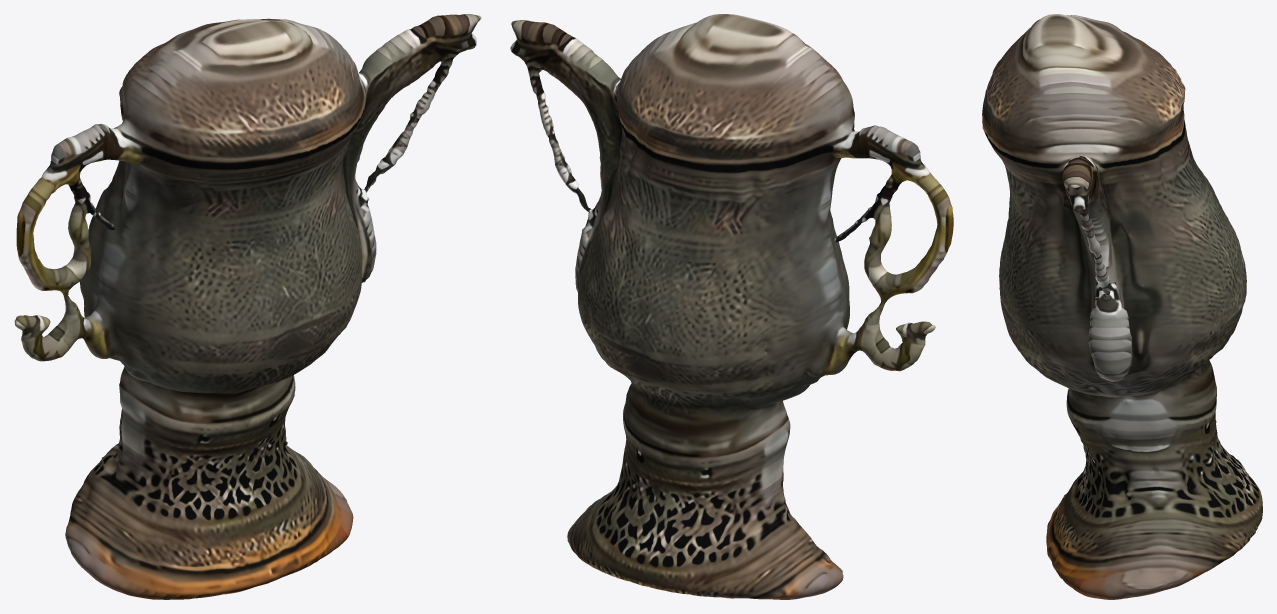
The model's file is kfl-2317.glb.
3 views of the same model, side by side, from view 1: azimuth 30°, elevation 25°; view 2: azimuth 150°, elevation 25°; view 3: azimuth 270°, elevation 25° (orthographic). The views are drawn at different scales.
Visible parts, largest first — view 1: kfl-2317; view 2: kfl-2317; view 3: kfl-2317.
Boxes of the visible parts, bbox=[...] form: kfl-2317: bbox=[14, 14, 481, 599]; kfl-2317: bbox=[510, 14, 953, 599]; kfl-2317: bbox=[982, 14, 1262, 599].
Bounding box in the file's own units: 0.8684 × 0.9978 × 0.4821.
Materials: 1 (1 with a texture image).
